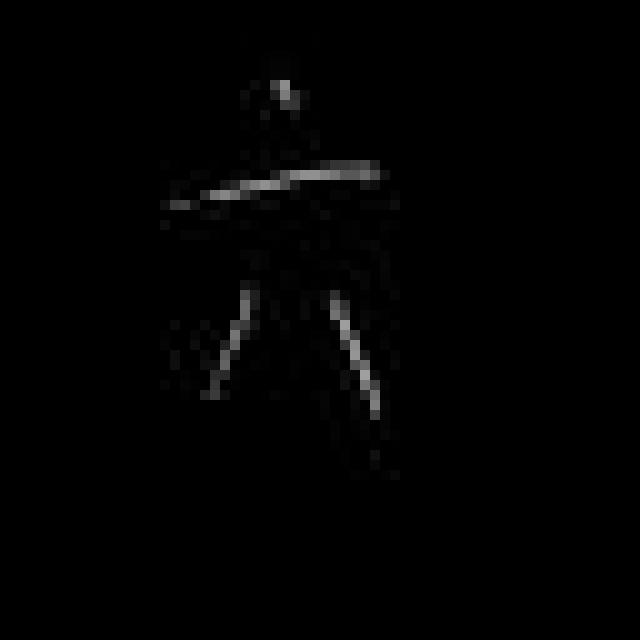6 -six-: (157, 67, 397, 433)
